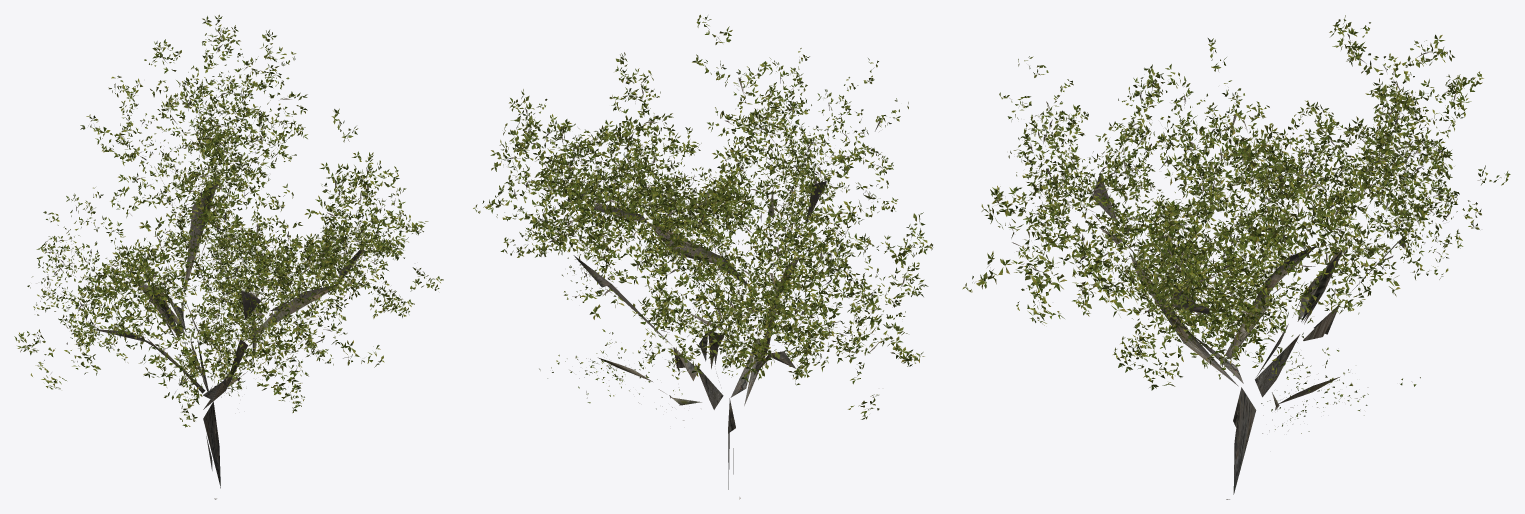
The model's file is reference-public_models_vegetation_broadleaf.glb.
3 views of the same model, side by side, from view 1: azimuth 30°, elevation 25°; view 2: azimuth 150°, elevation 25°; view 3: azimuth 270°, elevation 25° (orthographic). The views are drawn at different scales.
Parts seen in each view (by area): view 1: Crown_broadleaf.015; view 2: Crown_broadleaf.015; view 3: Crown_broadleaf.015.
Boxes of the visible parts, left/top/right/bottom form: Crown_broadleaf.015: left=14, top=14, right=443, bottom=499; Crown_broadleaf.015: left=473, top=14, right=932, bottom=499; Crown_broadleaf.015: left=962, top=15, right=1510, bottom=499.
Bounding box in the file's own units: 4.79 × 5.1 × 4.88.
Materials: 3 (3 with a texture image).
